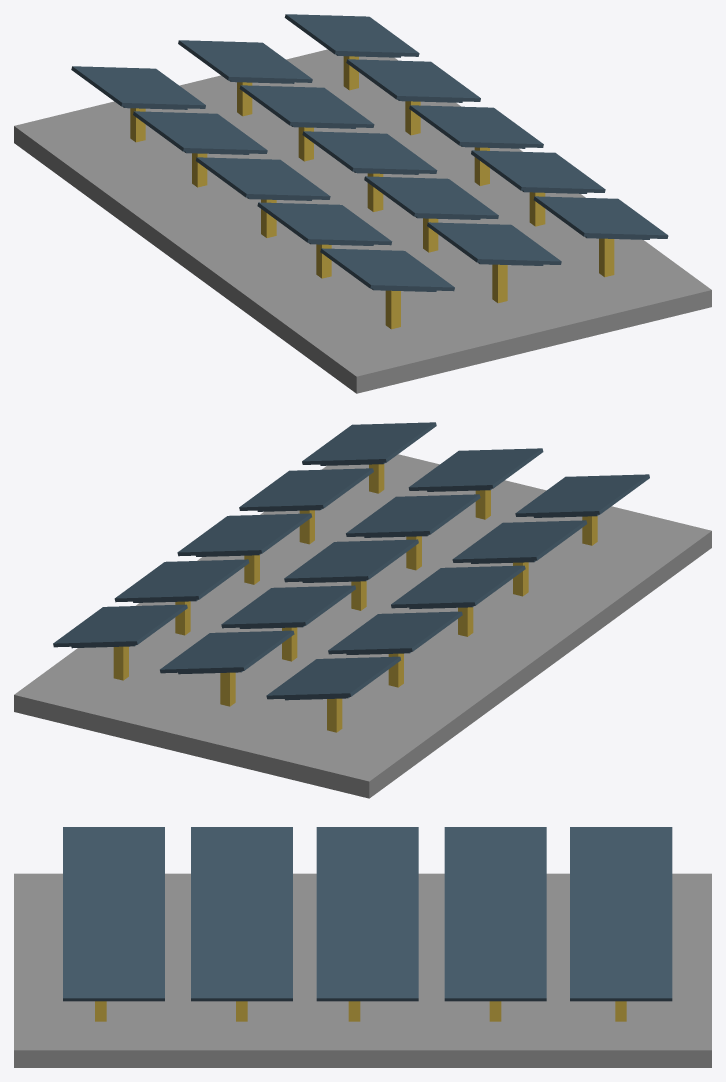
Rendered from solar_farm_variation_model.fbx.
The picture shows the model from 3 angles, top to bottom: view 1: azimuth 30°, elevation 25°; view 2: azimuth 150°, elevation 25°; view 3: azimuth 270°, elevation 25°; orthographic projection.
Parts seen in each view (by area): view 1: polySurface49; view 2: polySurface49; view 3: polySurface49.
Part boxes in pixels (left/top/right/bottom): polySurface49: left=14, top=14, right=711, bottom=393; polySurface49: left=14, top=422, right=711, bottom=798; polySurface49: left=14, top=827, right=711, bottom=1067.
Size of the model in its own units: 6.66 by 1.46 by 11.12.
Materials: 1 (1 with a texture image).
